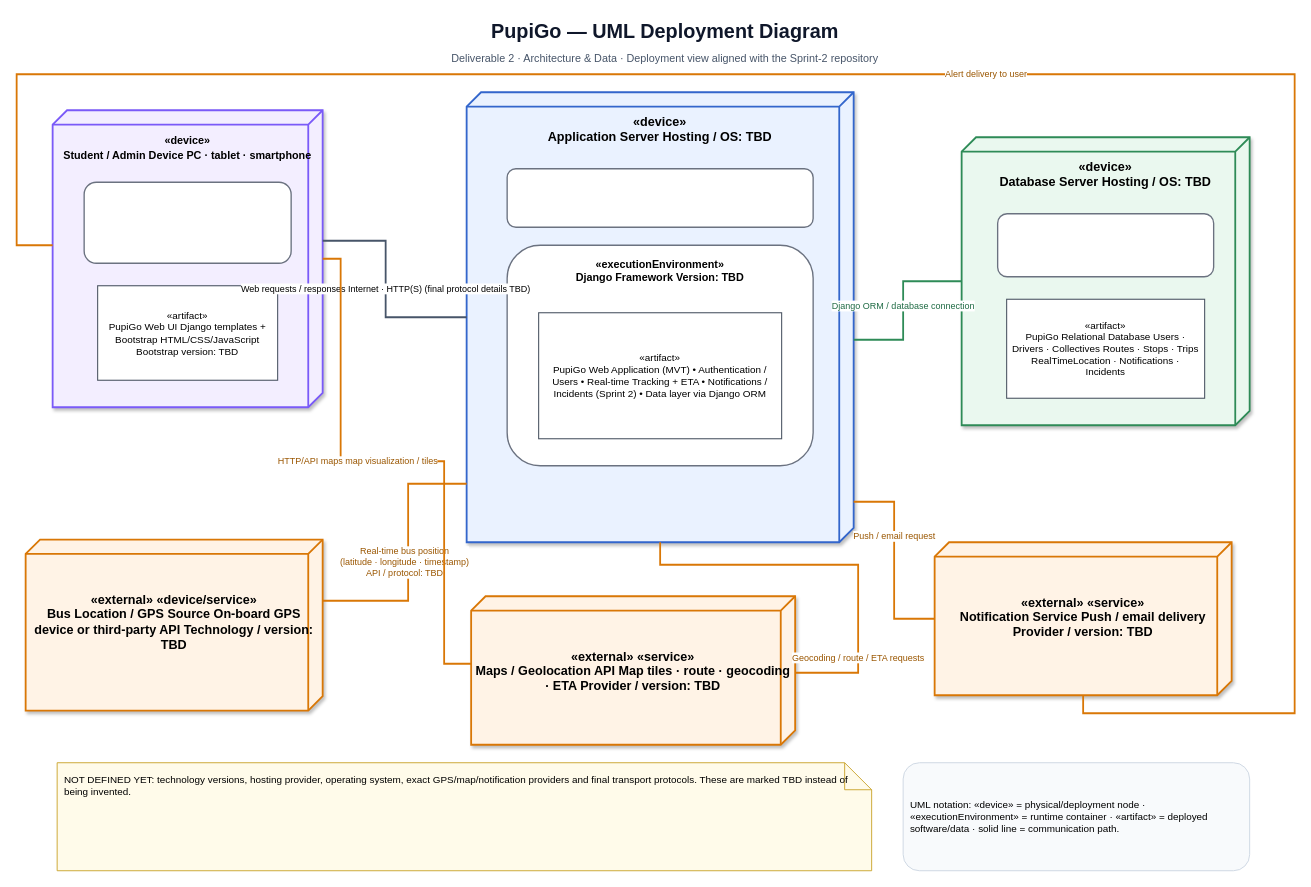
Some shapes in this 1311 by 887 pixel diagram are drawn without their labels. Each missing label, with the centre of its shape:
"«executionEnvironment» PostgreSQL Version: TBD" goes at point (1105, 245).
"«executionEnvironment» Python Runtime Version: TBD" goes at point (659, 198).
"«executionEnvironment» Web Browser Chrome · Safari · Edge Versions: TBD" goes at point (187, 222).
